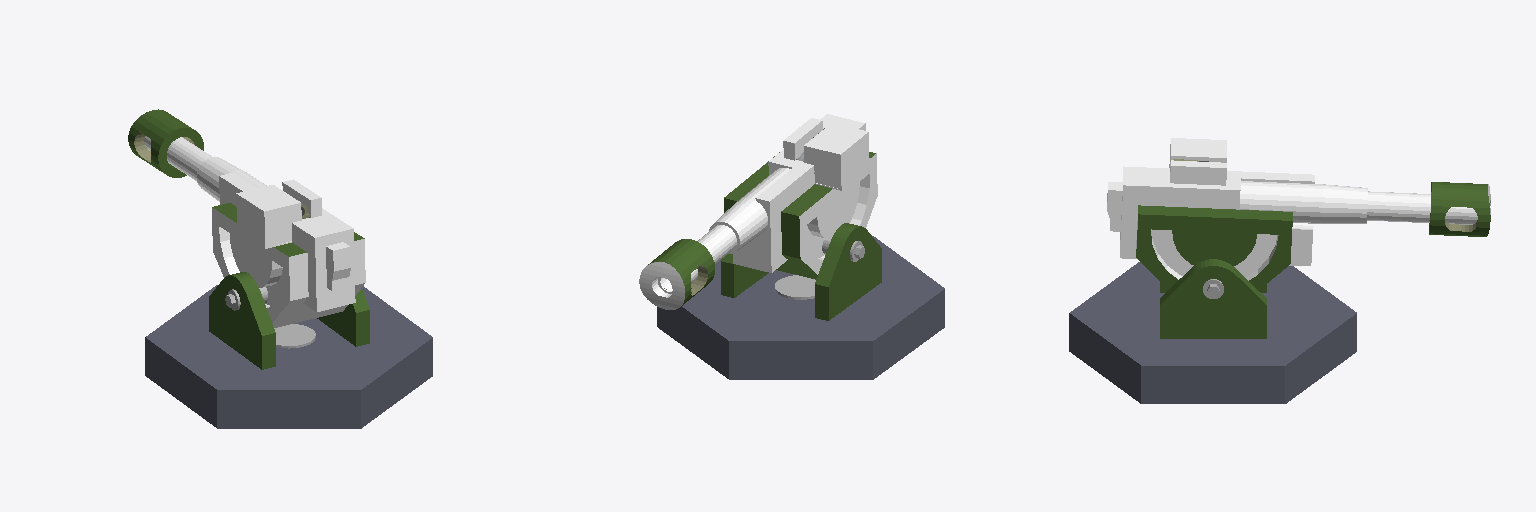
Rendered from towerGun.obj.
3 renders of one model, left to right at view 1: azimuth 30°, elevation 25°; view 2: azimuth 150°, elevation 25°; view 3: azimuth 270°, elevation 25°, orthographic.
Parts seen in each view (by area): view 1: Mesh1 Group1 Model, Mesh6 Group2 Model, Mesh7 Group2 Model; view 2: Mesh1 Group1 Model, Mesh6 Group2 Model, Mesh7 Group2 Model; view 3: Mesh1 Group1 Model, Mesh6 Group2 Model, Mesh7 Group2 Model.
Part boxes in pixels (x1,y1,x2,y2): Mesh1 Group1 Model: (145,272,432,428); Mesh6 Group2 Model: (144,136,365,327); Mesh7 Group2 Model: (128,109,203,177); Mesh1 Group1 Model: (657,223,944,379); Mesh6 Group2 Model: (658,114,877,293); Mesh7 Group2 Model: (639,239,714,309); Mesh1 Group1 Model: (1069,259,1356,403); Mesh6 Group2 Model: (1107,138,1477,290); Mesh7 Group2 Model: (1429,182,1490,236).
Bounding box in the file's own units: 17.54 × 14.83 × 29.61.